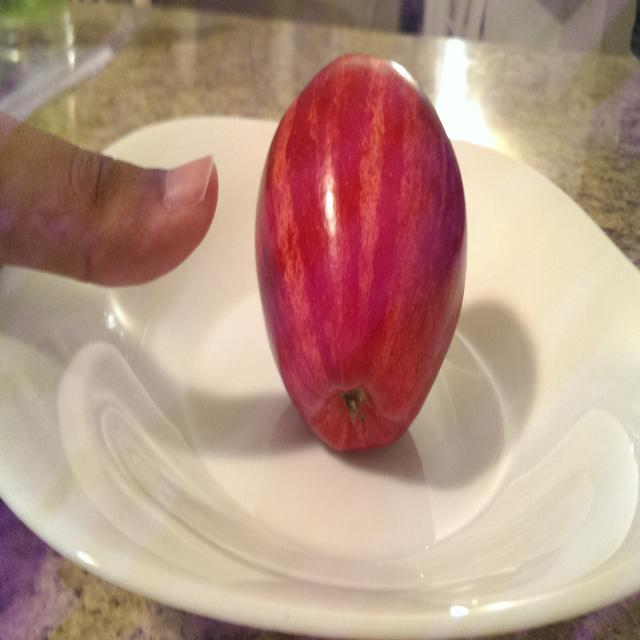apple: (248, 47, 474, 480)
